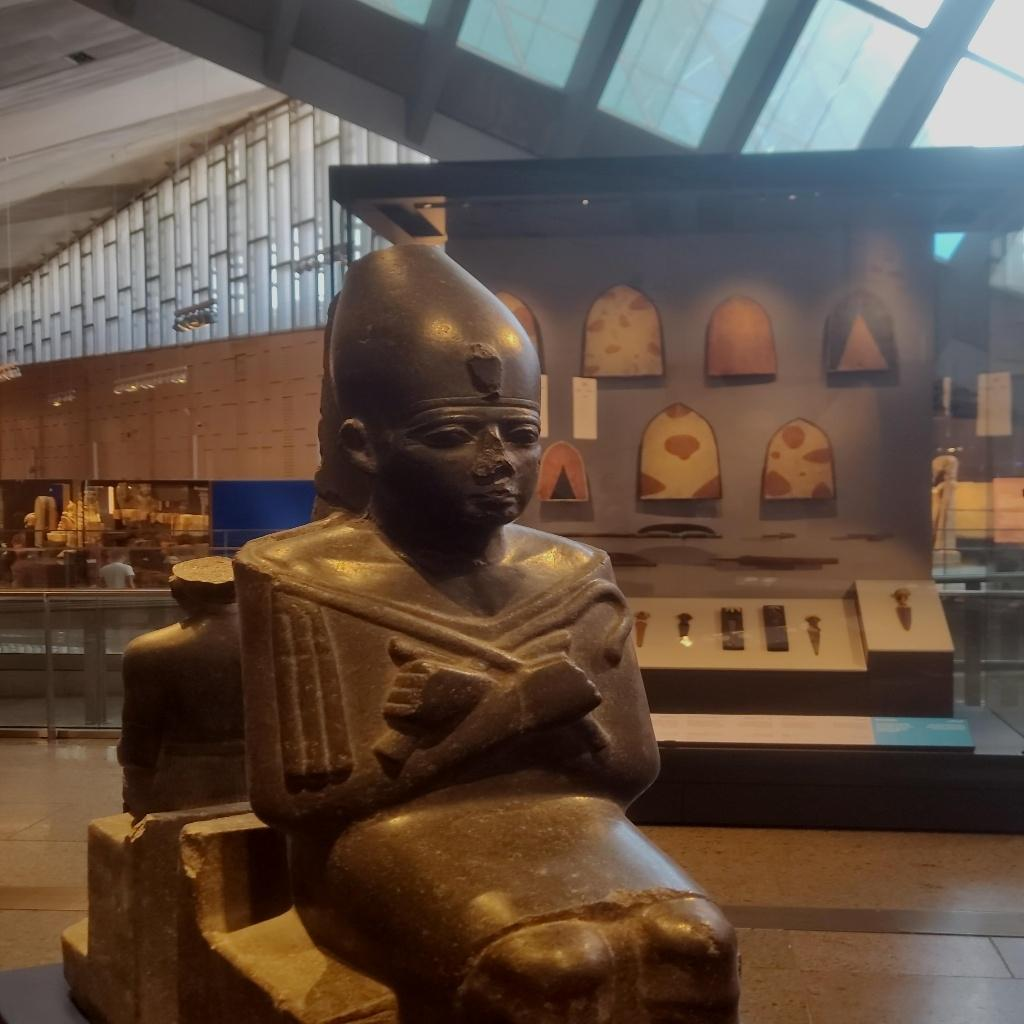Statue of Sobekhotep V: (224, 240, 746, 1020)
